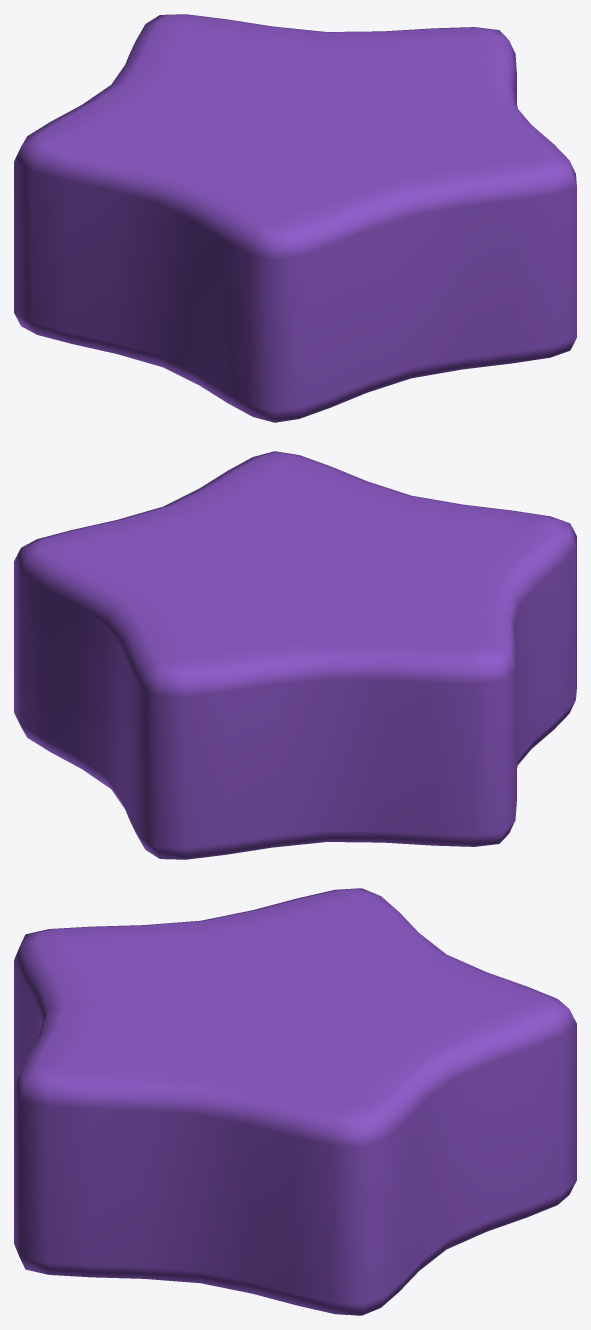
The model's file is Store_9_Table_Star_1.glb.
The picture shows the model from 3 angles, top to bottom: view 1: azimuth 30°, elevation 25°; view 2: azimuth 150°, elevation 25°; view 3: azimuth 270°, elevation 25°; orthographic projection. The views are drawn at different scales.
Visible parts, largest first — view 1: Store_9_Table_Star_1; view 2: Store_9_Table_Star_1; view 3: Store_9_Table_Star_1.
Boxes of the visible parts, x1,y1,x2,y2 form: Store_9_Table_Star_1: (14,14,576,422); Store_9_Table_Star_1: (14,451,576,859); Store_9_Table_Star_1: (14,888,576,1315).
Bounding box in the file's own units: 1.47 × 0.547 × 1.41.
1 material, 1 textured.
